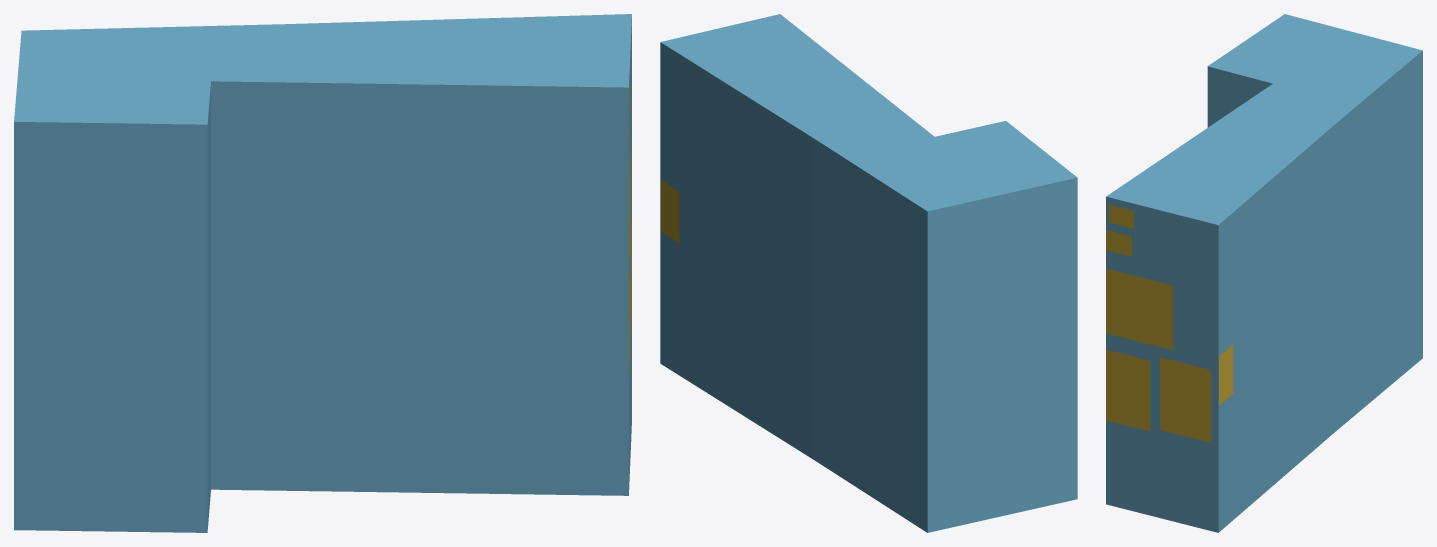
The model's file is bldg_7e8ccfce-640d-40b4-b675-a33b4dad7763.obj.
The picture shows the model from 3 angles, left to right: view 1: azimuth 30°, elevation 25°; view 2: azimuth 150°, elevation 25°; view 3: azimuth 270°, elevation 25°; orthographic projection. The views are drawn at different scales.
Size of the model in its own units: 14.92 by 10.15 by 9.46.
